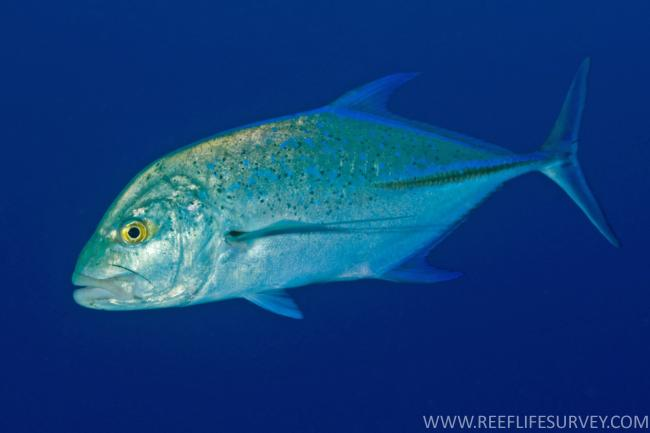fish: (72, 58, 621, 320)
